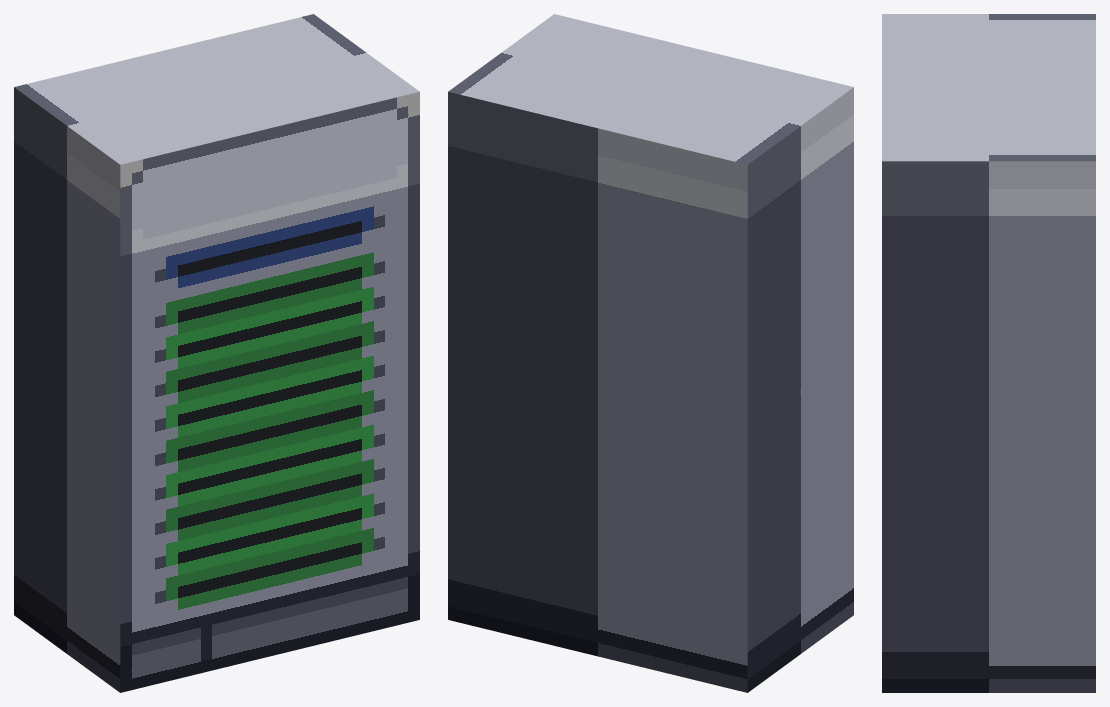
Rendered from ai_core_law_rack.glb.
The picture shows the model from 3 angles, left to right: view 1: azimuth 30°, elevation 25°; view 2: azimuth 150°, elevation 25°; view 3: azimuth 270°, elevation 25°; orthographic projection.
Visible parts, largest first — view 1: Core_Law_Rack; view 2: Core_Law_Rack; view 3: Core_Law_Rack.
Part boxes in pixels (box(x1,y1,x2,y2)): Core_Law_Rack: box(14, 14, 419, 692); Core_Law_Rack: box(448, 14, 853, 692); Core_Law_Rack: box(882, 14, 1095, 692).
Size of what is drawn, in the model's own units: 1.14 by 1.92 by 0.7.
Materials: 1 (1 with a texture image).
